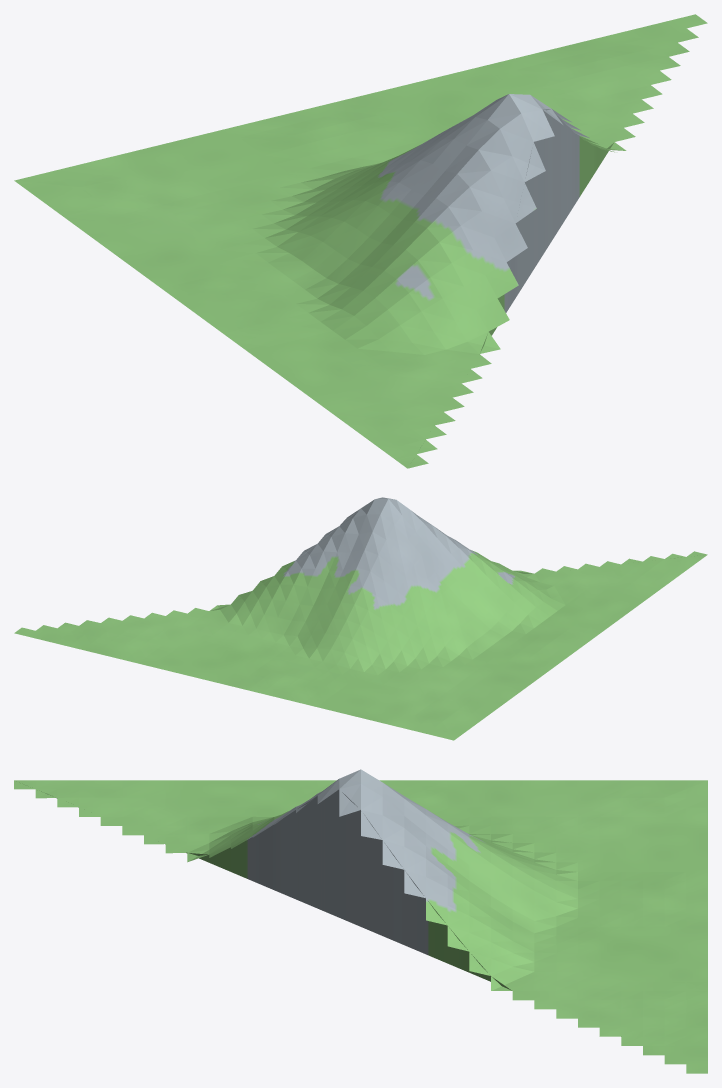
The model's file is Grass_RockyMountains_12_SW.obj.
The picture shows the model from 3 angles, top to bottom: view 1: azimuth 30°, elevation 25°; view 2: azimuth 150°, elevation 25°; view 3: azimuth 270°, elevation 25°; orthographic projection. The views are drawn at different scales.
Size of the model in its own units: 10 by 2.21 by 10.
1 material, 1 textured.
